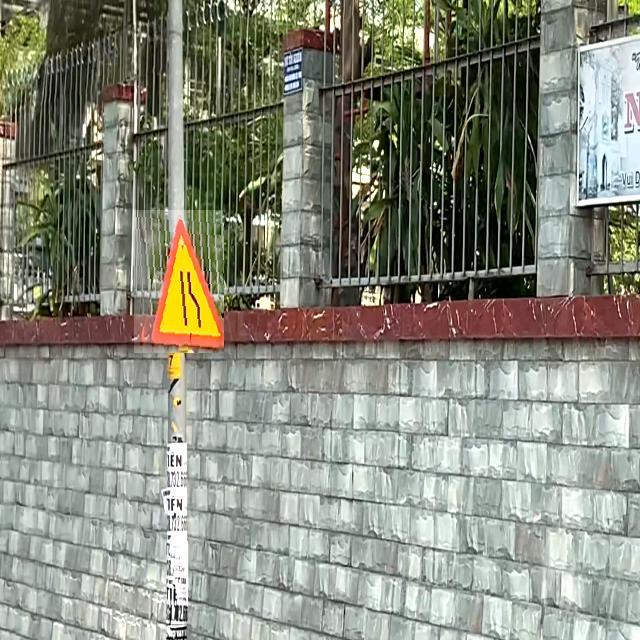W-203c: (134, 210, 224, 353)
